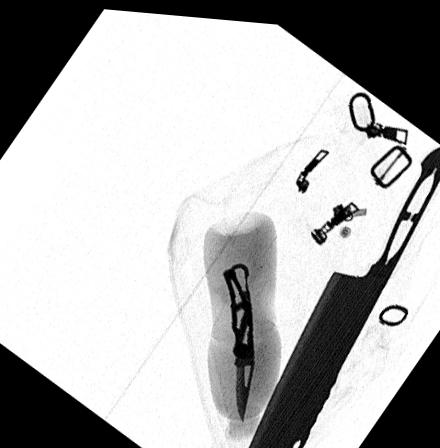Knife: (245, 137, 440, 448), (221, 256, 255, 419)
